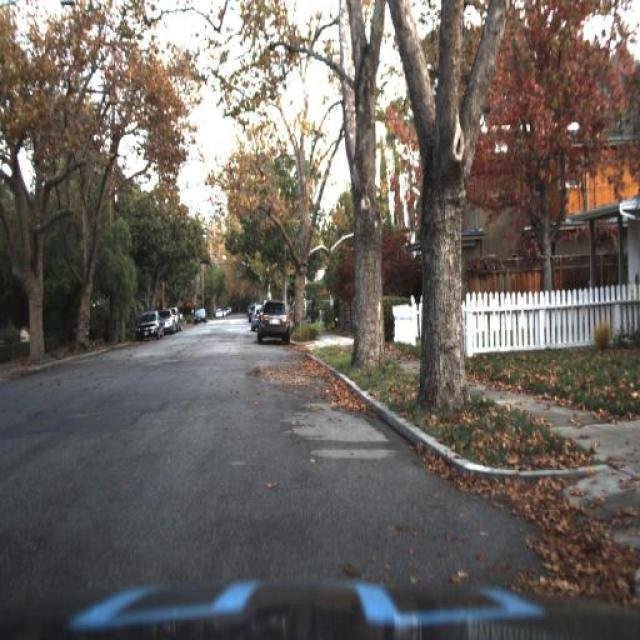car: (255, 290, 294, 345), (132, 310, 164, 344), (248, 300, 270, 338), (248, 300, 264, 340), (162, 306, 174, 338), (193, 308, 208, 328)
